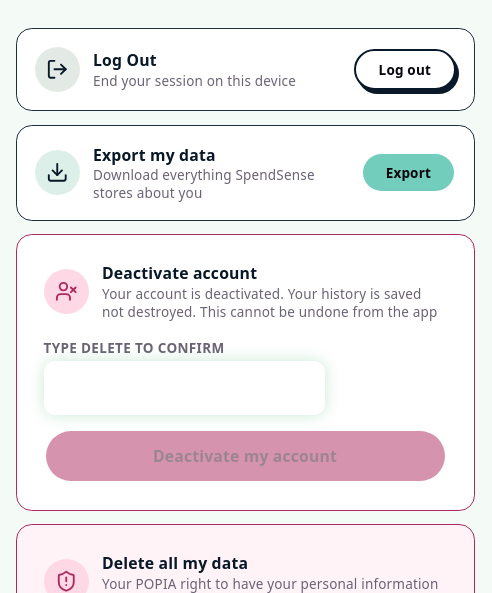
Scenario: SettingsAccountPage › shows error feedback when the export fails
Step 1. Click the button "Export" → click(408, 173), box [361, 152, 456, 193]
(page scrolled)
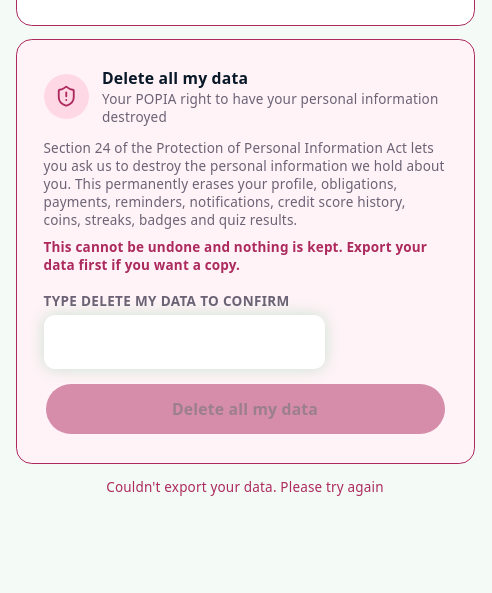
Check: the text "Couldn't export your data. Please try again" is shown, box [106, 478, 384, 496]
